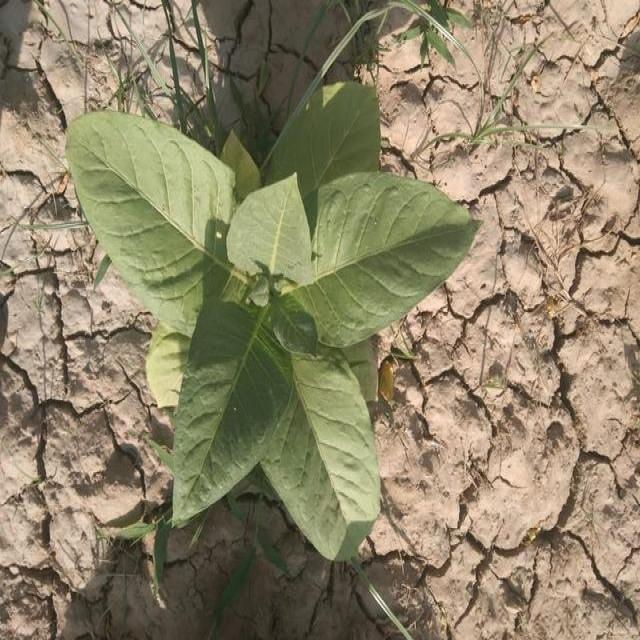crop: (68, 80, 472, 555)
